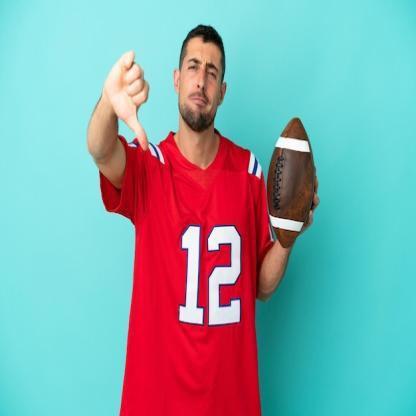thumb_down: (102, 48, 154, 152)
